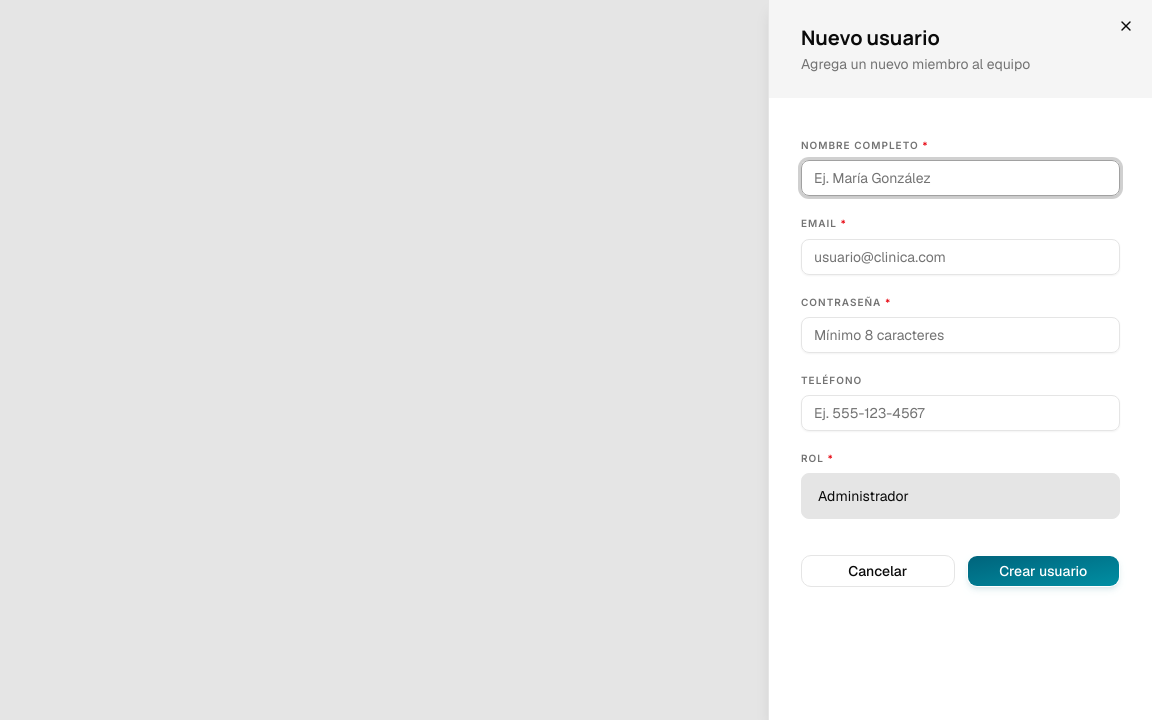
it: UserDrawer › shows API error message inside drawer without closing
Type "Test User" into the field labelled "Nombre completo *".
click(960, 178); type("Test User")  # box 801,160 -> 1120,196
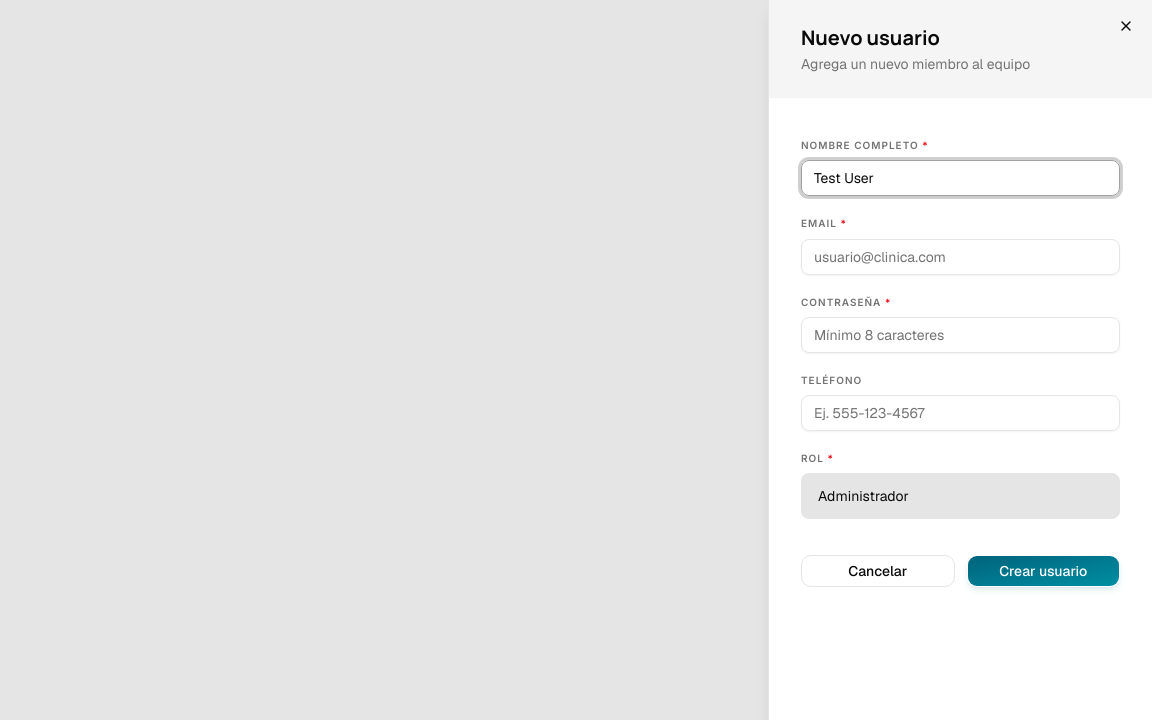
Type "test@clinica.com" into the field labelled "Email *".
click(960, 257); type("test@clinica.com")  # box 801,239 -> 1120,275
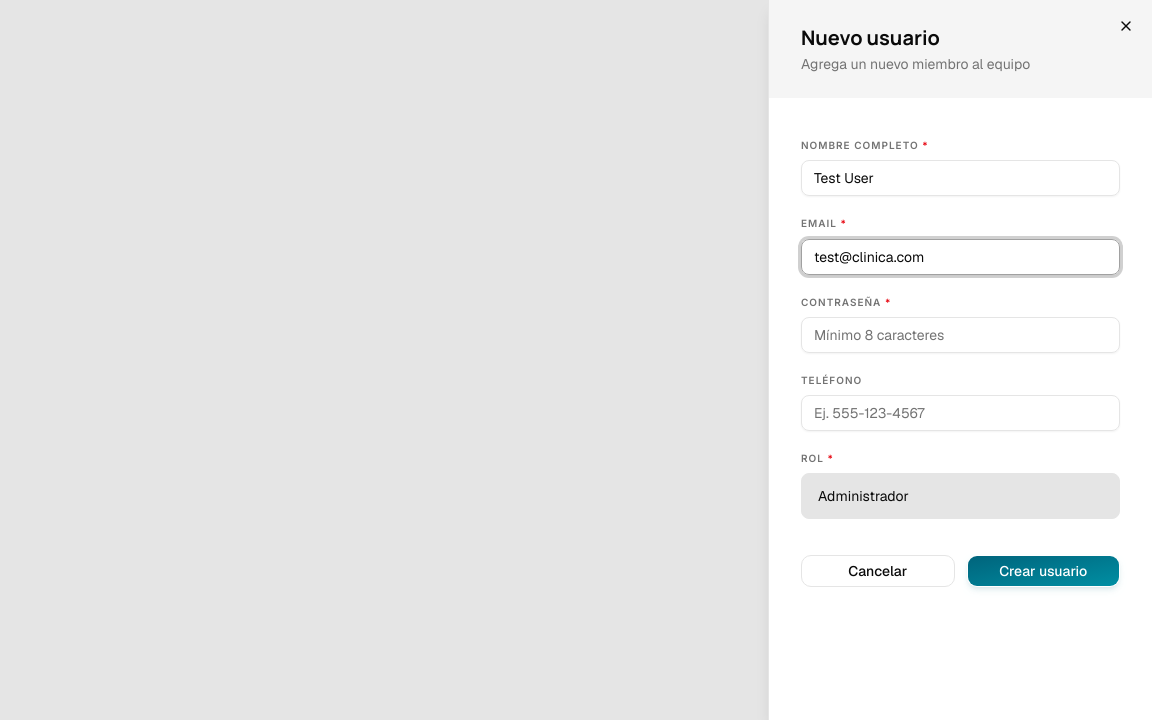
Type "password123" into the password field labelled "Contraseña *".
click(960, 335); type("password123")  # box 801,317 -> 1120,353
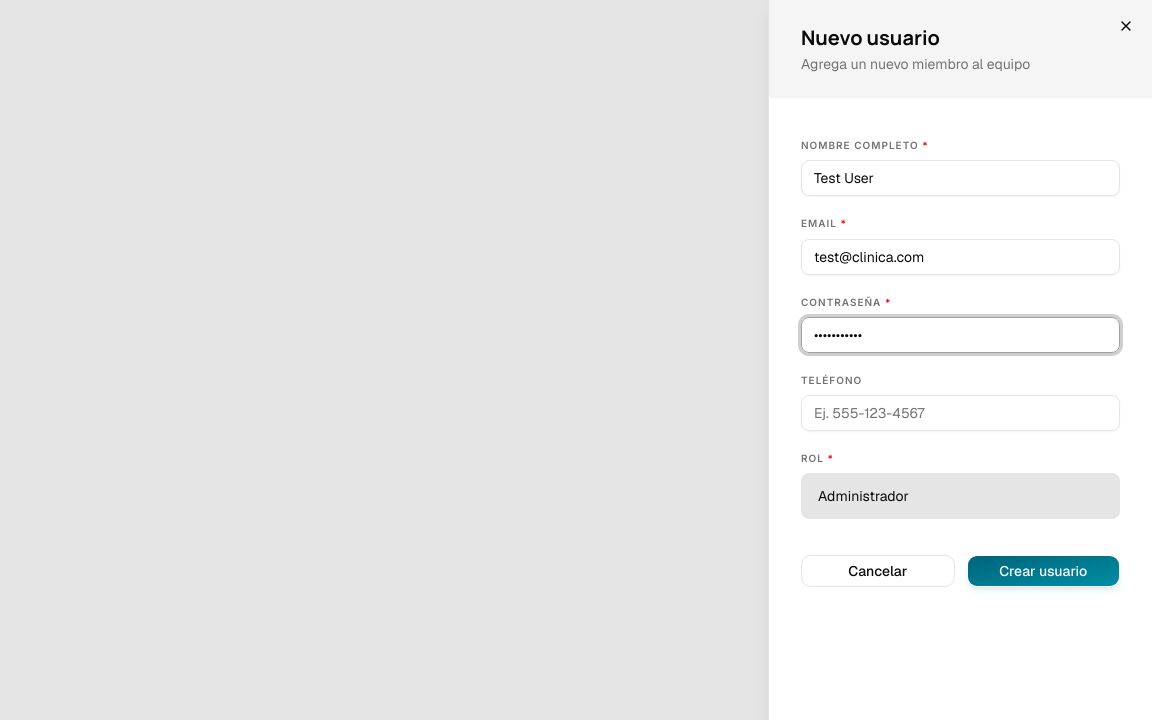
Click the button "Crear usuario".
click(1043, 571)  # box 966,555 -> 1120,587
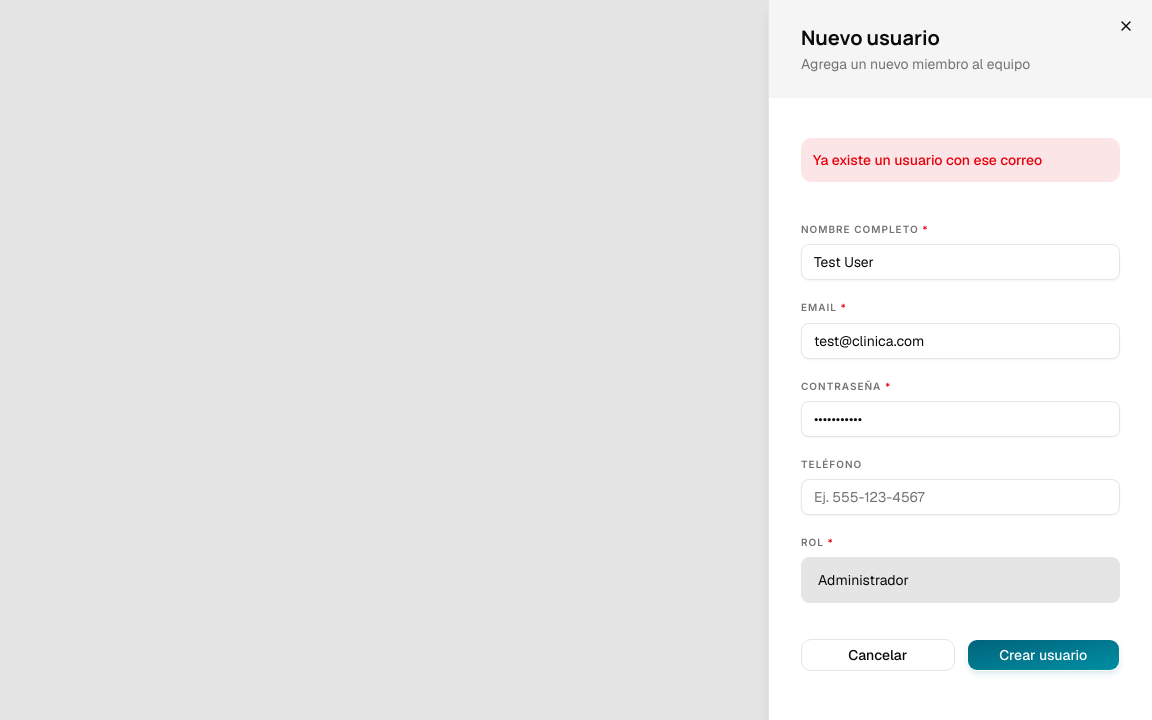
Check: the heading "Nuevo usuario" is shown, box 801,24 -> 940,51
Check: the text "Ya existe un usuario con ese correo" is shown, box 813,151 -> 1042,169
